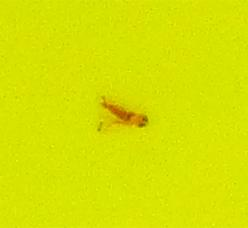Hemiptera: (100, 100, 148, 128)
